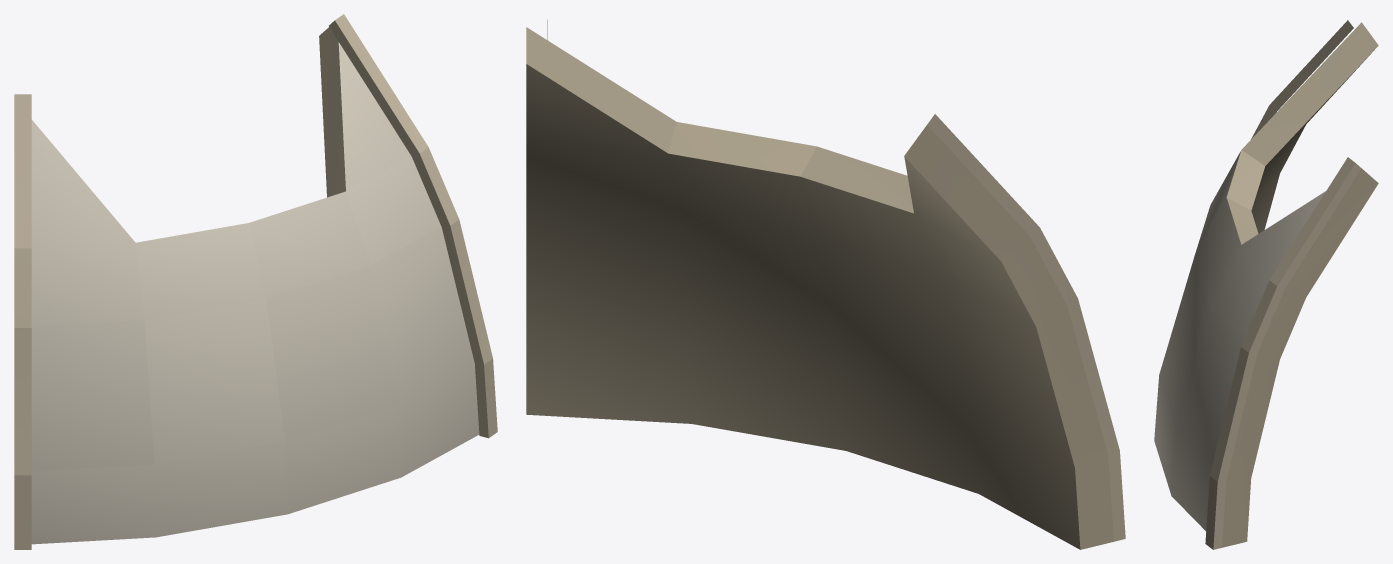
Rendered from dome.panel_6_broken.plaster.glb.
The picture shows the model from 3 angles, left to right: view 1: azimuth 30°, elevation 25°; view 2: azimuth 150°, elevation 25°; view 3: azimuth 270°, elevation 25°; orthographic projection. The views are drawn at different scales.
Visible parts, largest first — view 1: dome_panel_6_broken_plaster; view 2: dome_panel_6_broken_plaster; view 3: dome_panel_6_broken_plaster.
Part boxes in pixels (bbox=[...]): dome_panel_6_broken_plaster: bbox=[14, 14, 497, 549]; dome_panel_6_broken_plaster: bbox=[526, 20, 1125, 549]; dome_panel_6_broken_plaster: bbox=[1154, 20, 1378, 549].
Size of what is drawn, in the model's own units: 3.57 by 2.68 by 1.55.
